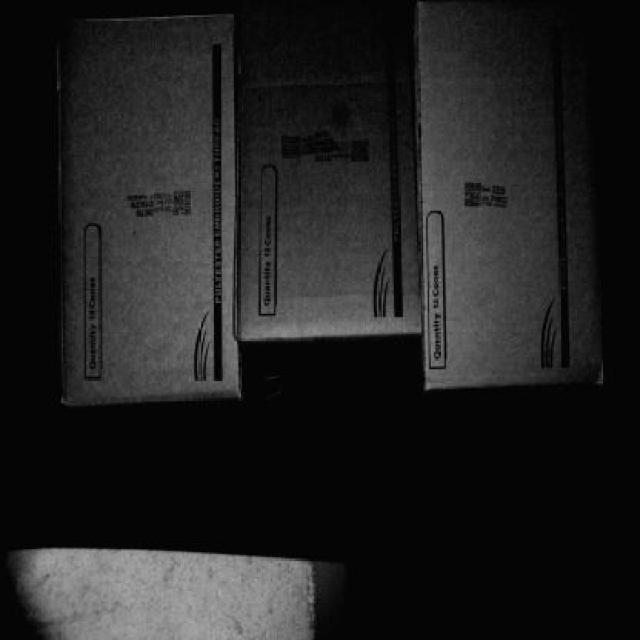cardboxes: (431, 5, 603, 389), (60, 20, 235, 397), (245, 6, 423, 339)
